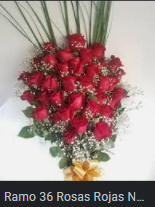RedRose: (92, 122, 112, 140), (83, 102, 101, 119), (99, 75, 118, 91), (69, 58, 86, 75), (72, 115, 88, 133), (79, 77, 96, 93), (68, 93, 84, 109), (43, 76, 59, 92), (60, 75, 75, 92), (90, 43, 105, 60), (34, 105, 50, 120), (100, 104, 114, 120), (59, 47, 73, 62), (30, 72, 44, 87), (49, 92, 63, 106)
